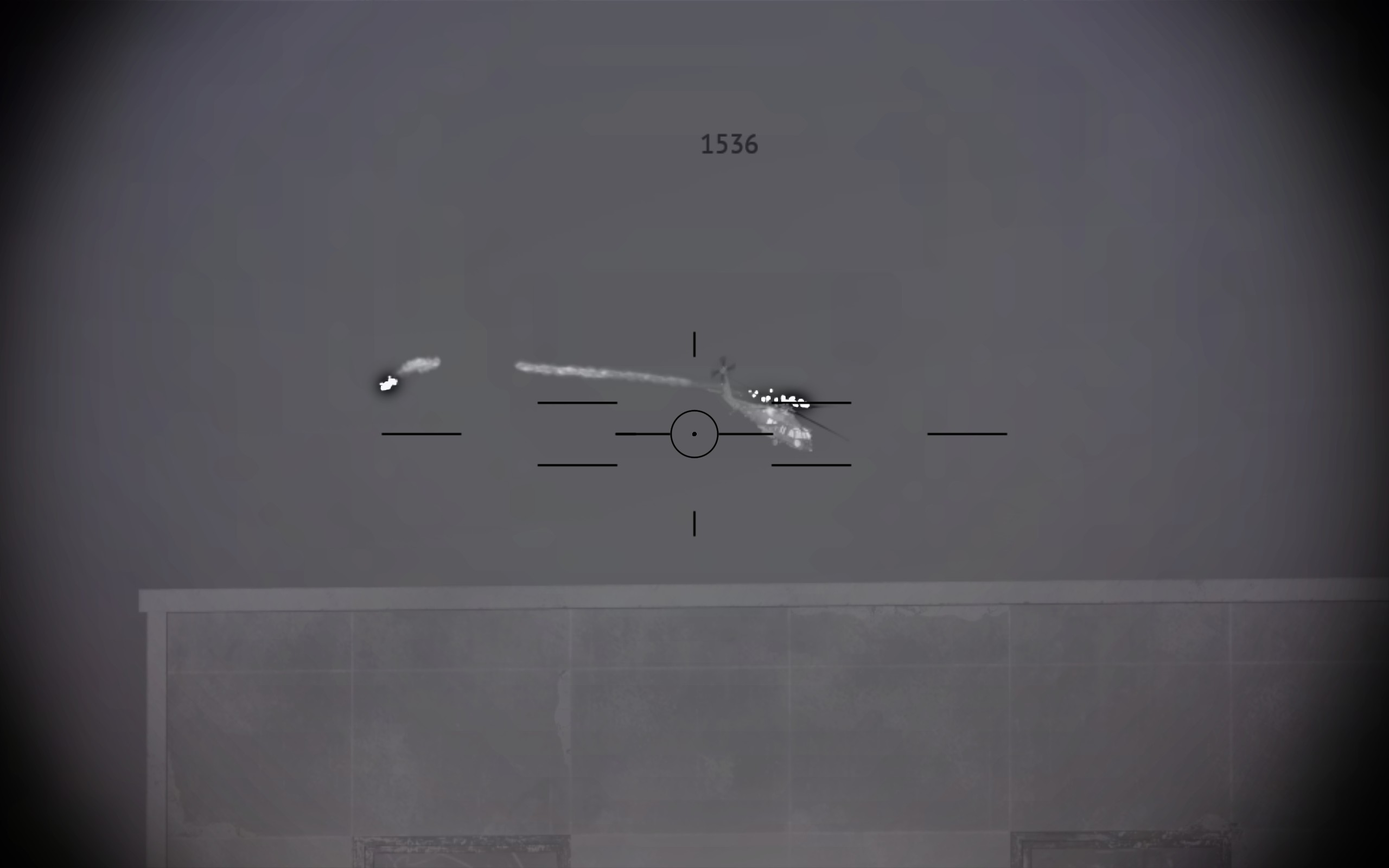ah/uh60: (703, 362, 814, 455)
